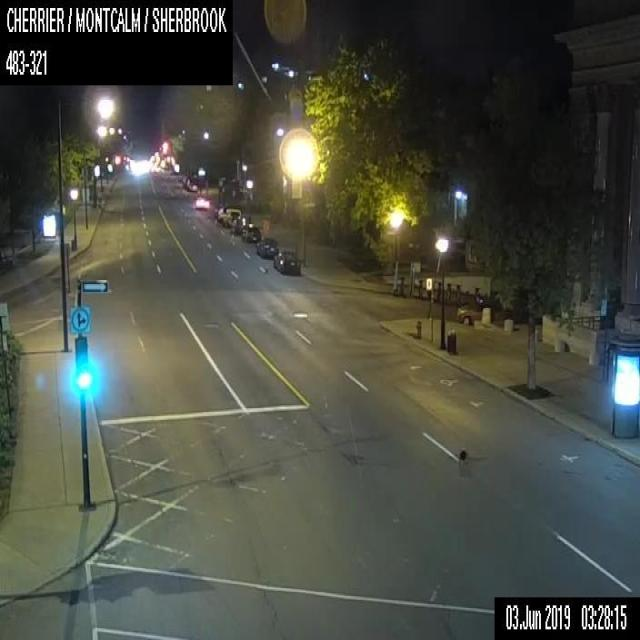vehicle: (457, 300, 494, 324), (273, 248, 300, 275), (255, 238, 277, 258), (219, 206, 240, 226), (240, 222, 260, 241), (230, 214, 247, 233), (195, 196, 209, 209), (186, 180, 197, 190)
